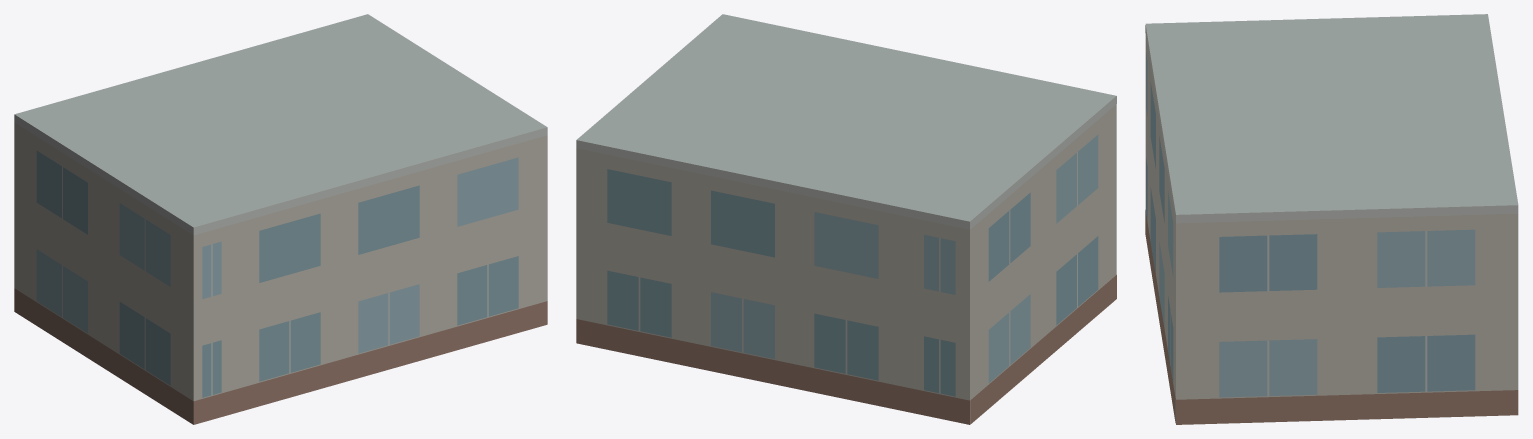
The model's file is survey-upis-32816410.glb.
3 renders of one model, left to right at view 1: azimuth 30°, elevation 25°; view 2: azimuth 150°, elevation 25°; view 3: azimuth 270°, elevation 25°, orthographic. The views are drawn at different scales.
Visible parts, largest first — view 1: survey-upis-32816410.tmp; view 2: survey-upis-32816410.tmp; view 3: survey-upis-32816410.tmp.
Boxes of the visible parts, box(x1,y1,x2,y2) form: survey-upis-32816410.tmp: box(14, 14, 547, 424); survey-upis-32816410.tmp: box(576, 14, 1116, 424); survey-upis-32816410.tmp: box(1145, 14, 1518, 424).
Bounding box in the file's own units: 12.52 × 6.1 × 9.83.
